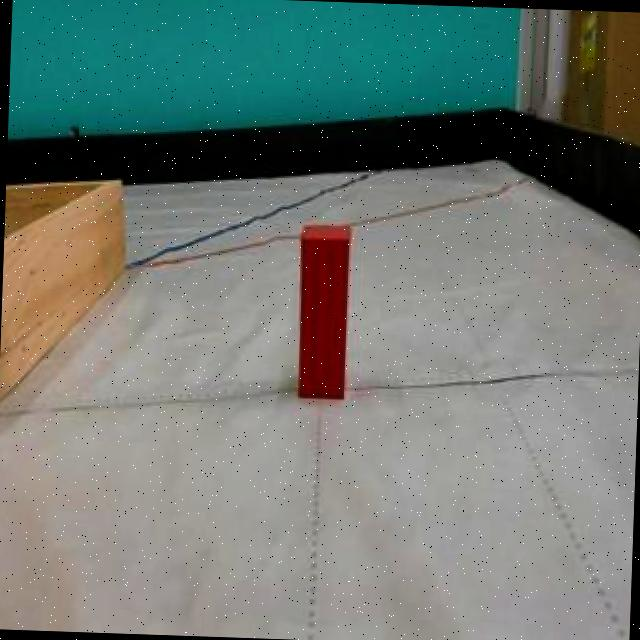redbox: (292, 216, 350, 398)
